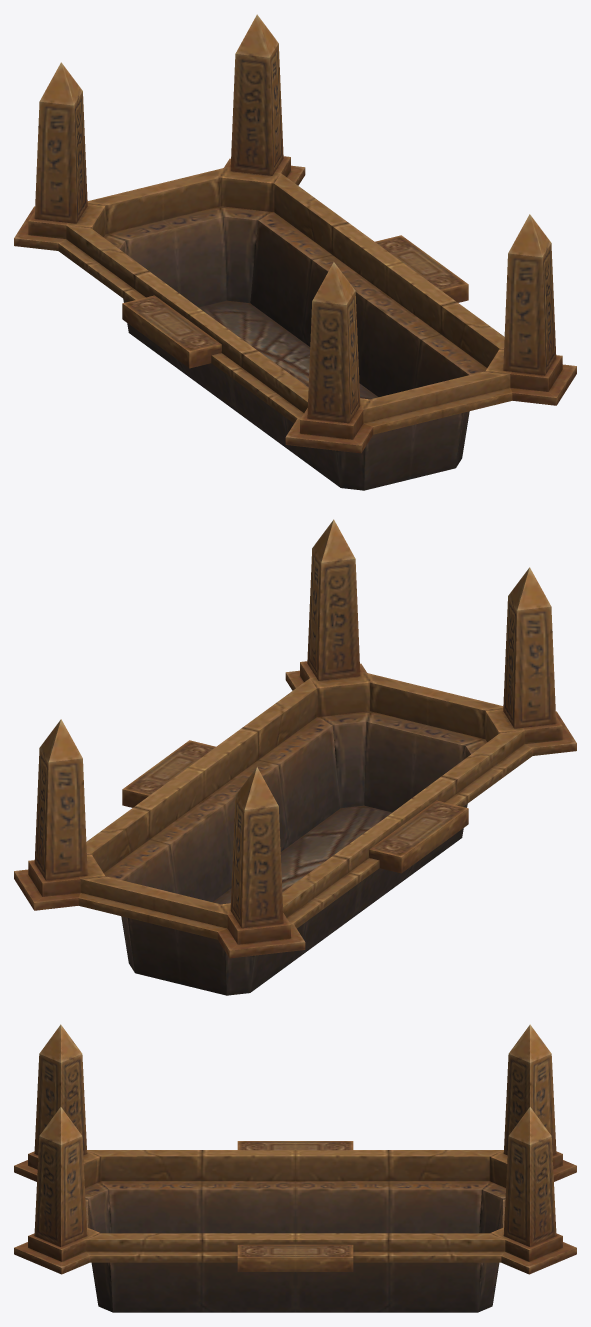
File: shakian_construct_tombtile01_01.FBX
3 views of the same model, one above another, from view 1: azimuth 30°, elevation 25°; view 2: azimuth 150°, elevation 25°; view 3: azimuth 270°, elevation 25° (orthographic). The views are drawn at different scales.
Visible parts, largest first — view 1: shakian_construct_tombtile01_01; view 2: shakian_construct_tombtile01_01; view 3: shakian_construct_tombtile01_01.
Part boxes in pixels (bbox=[...]): shakian_construct_tombtile01_01: bbox=[14, 14, 576, 490]; shakian_construct_tombtile01_01: bbox=[14, 519, 576, 995]; shakian_construct_tombtile01_01: bbox=[14, 1024, 576, 1312].
Bounding box in the file's own units: 4.27 × 3.61 × 8.3.
